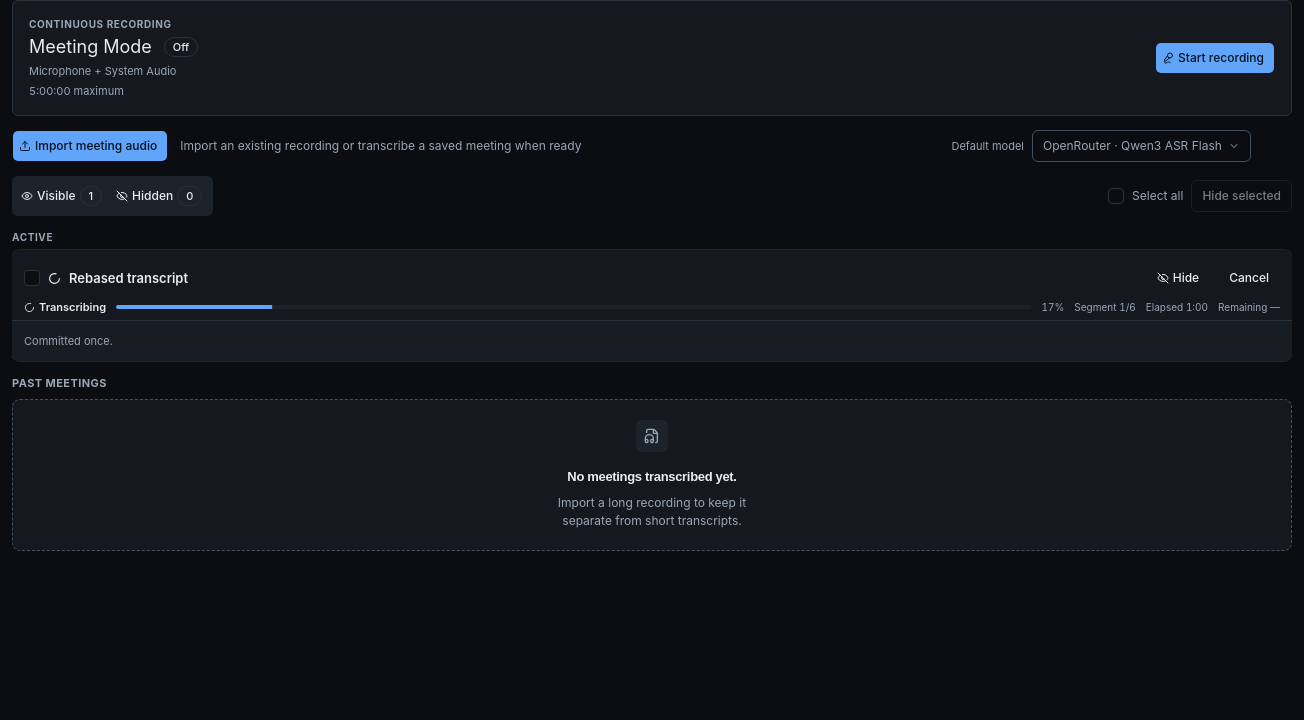
Test: MeetingTranscriptionPanel permission preflight › rebases transient text onto the canonical transcript when detail opens
Click the button "Rebased transcript" at (129, 278), box [48, 269, 1138, 287]
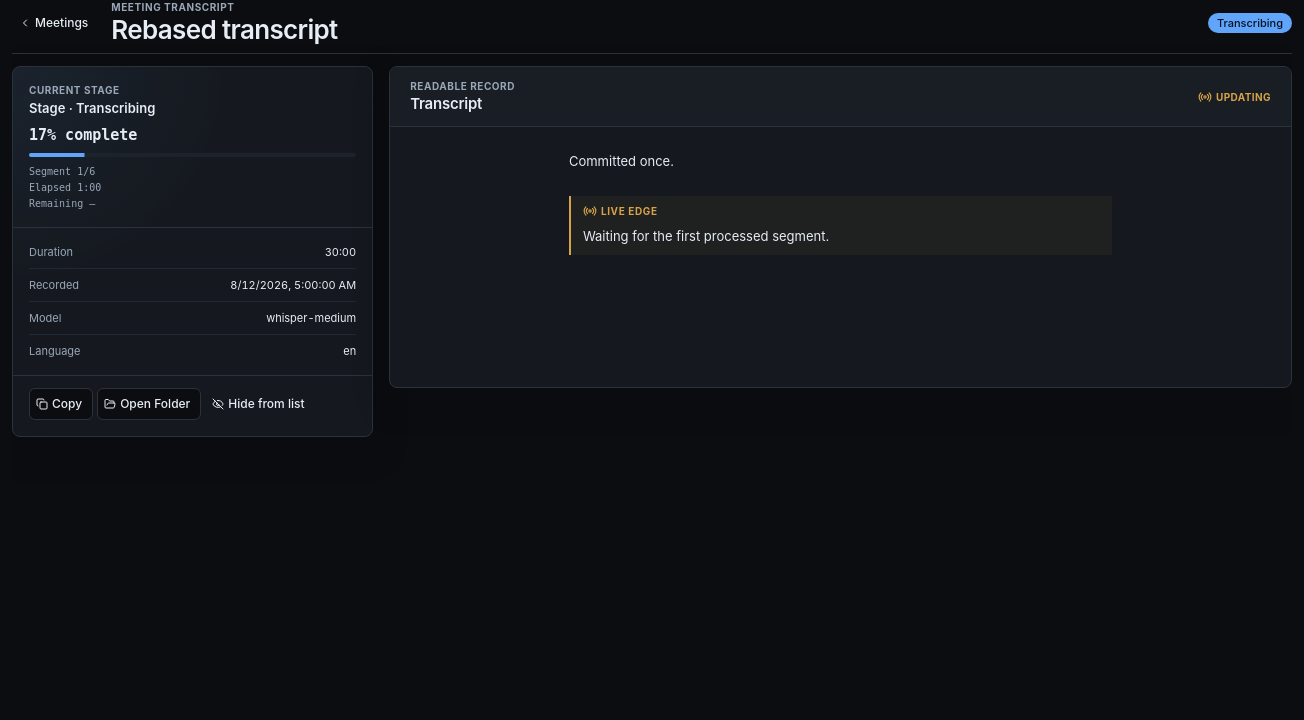
Now the element named "Live transcript" is shown, box [569, 196, 1112, 255]
Now the text "Committed once." is shown once, box [569, 153, 674, 169]
Now the text "Waiting for the first processed segment." is shown, box [583, 228, 829, 244]
